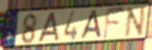4: (62, 9, 79, 42)
8: (20, 12, 38, 45)
A: (37, 11, 60, 43), (80, 10, 103, 40)
F: (102, 6, 126, 40)
N: (124, 5, 147, 38)
